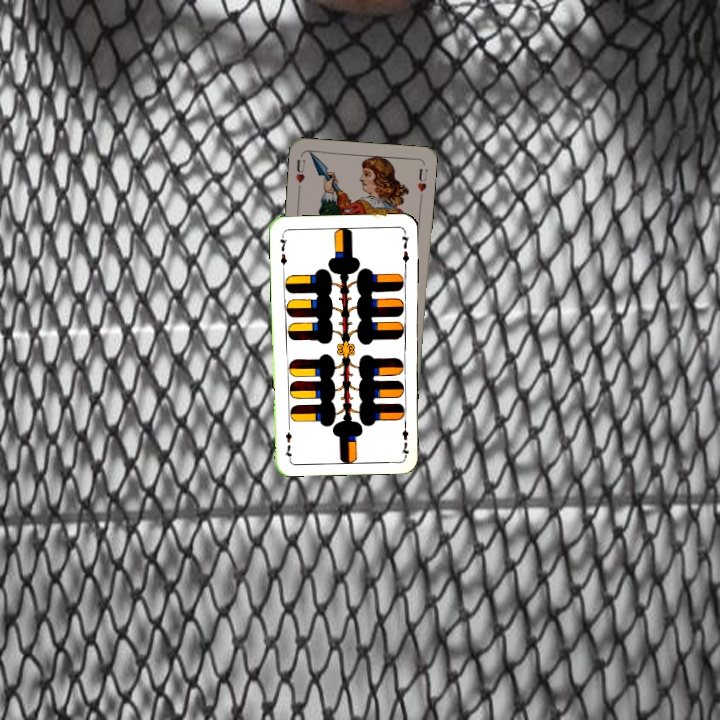E7: (276, 231, 289, 271), (398, 417, 411, 457)
HU: (292, 155, 307, 193)
